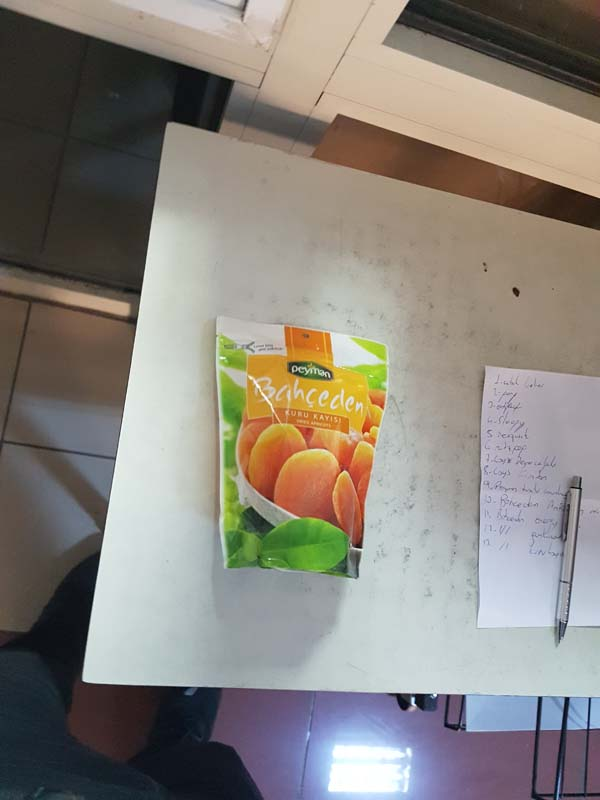bahcedenkurukayisi: (204, 314, 394, 576)
